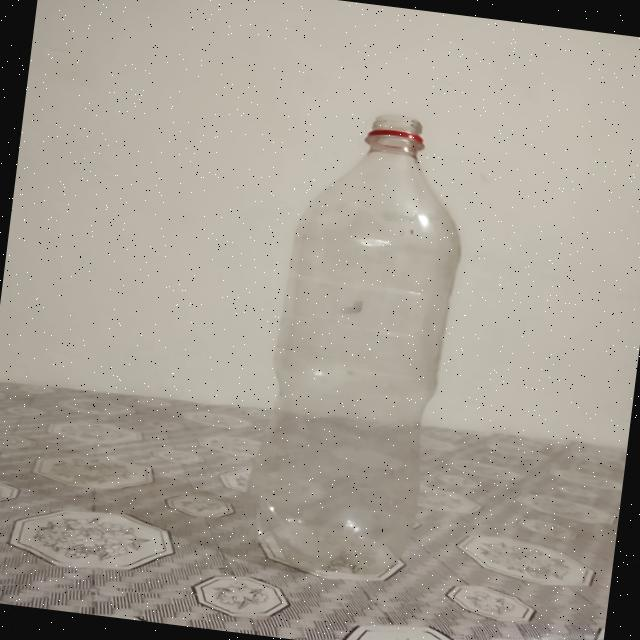bottle: (241, 101, 487, 594)
